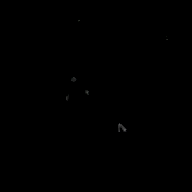v: (63, 76, 88, 100)
